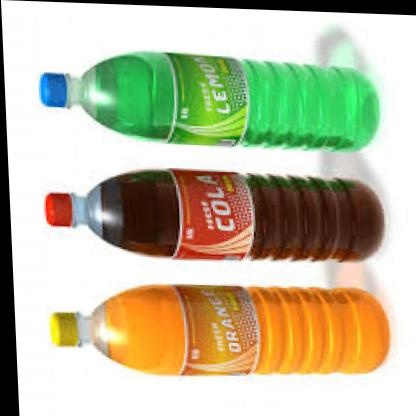trash: (45, 169, 383, 260), (79, 52, 379, 149), (81, 285, 388, 374)
